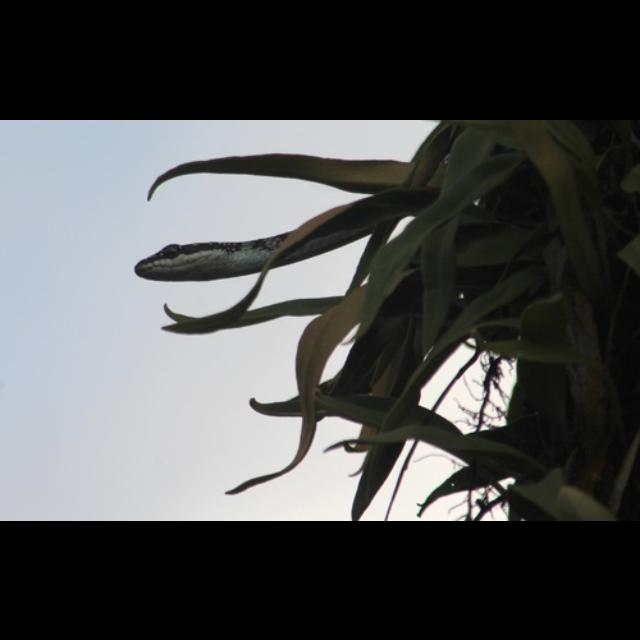snake: (130, 182, 484, 282)
